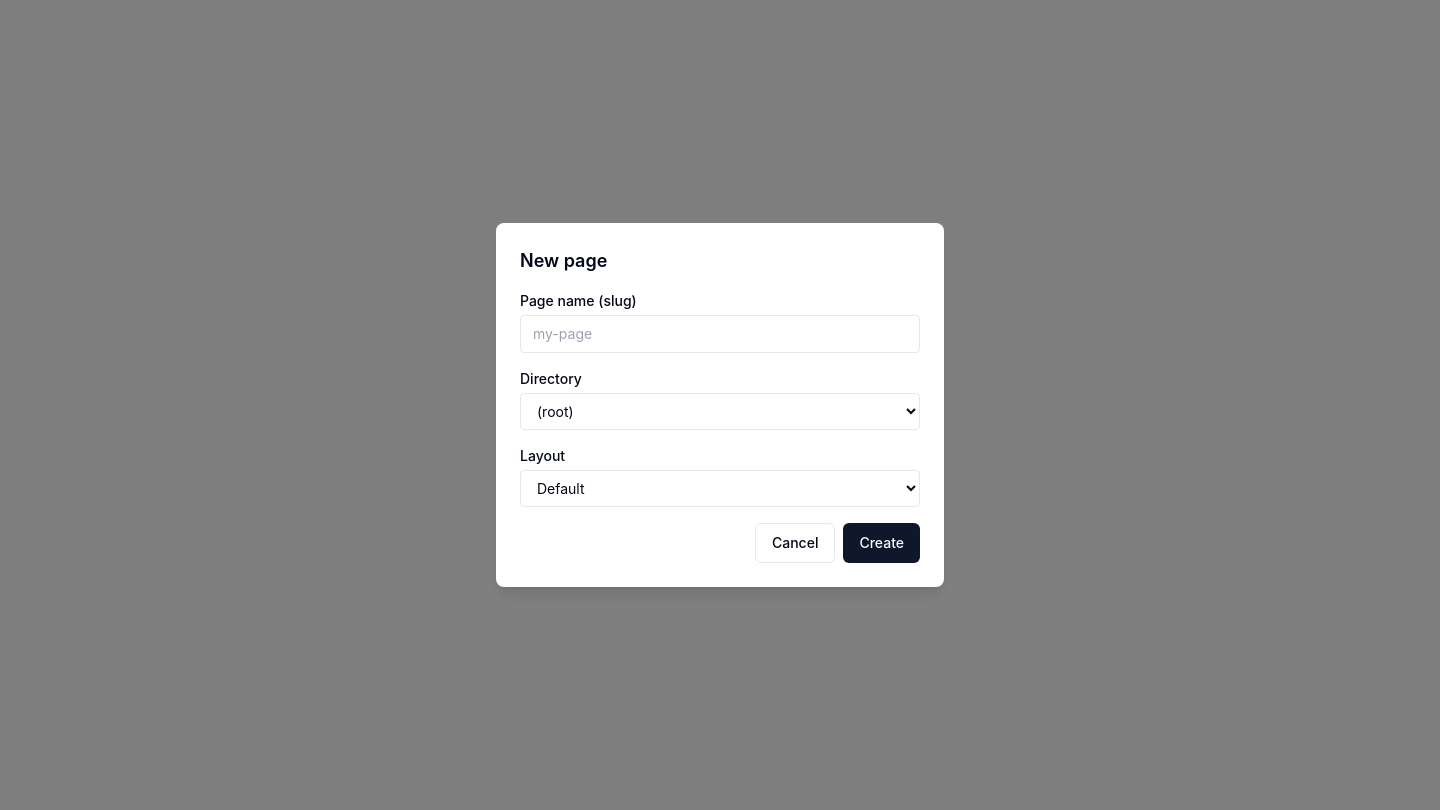
Test: PageCreationDialog › shows validation error for empty slug
Click the button "Create".
click(882, 543)  # box x1=843 y1=523 x2=920 y2=563
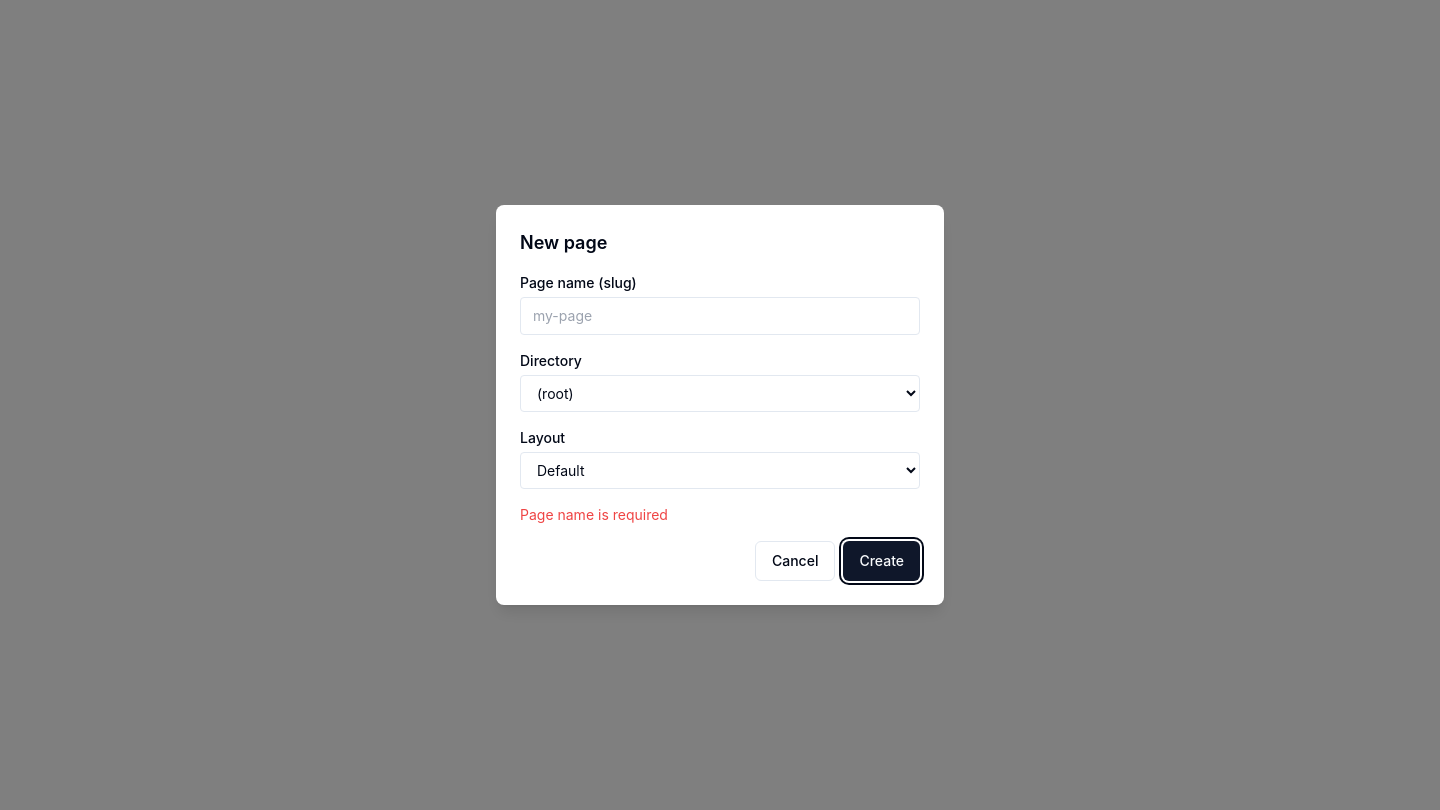
expect the text "Page name is required" is shown: met, box x1=520 y1=506 x2=668 y2=523
